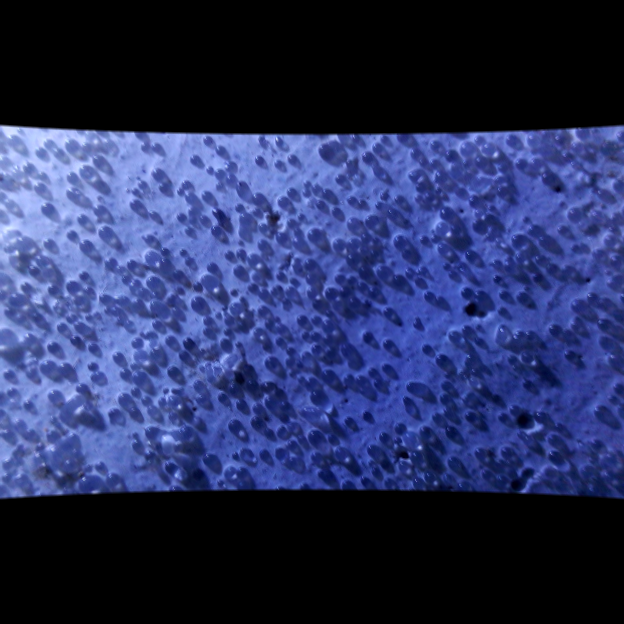GrassBeadSeg: (0, 182, 528, 494), (90, 170, 618, 464), (49, 161, 509, 489), (100, 131, 540, 469), (42, 137, 505, 457), (73, 155, 494, 479), (13, 178, 623, 395), (59, 161, 464, 471), (68, 142, 508, 422), (33, 132, 408, 419), (102, 133, 515, 391), (27, 205, 478, 421), (64, 211, 542, 401), (98, 125, 590, 299), (121, 241, 606, 415), (317, 149, 598, 444), (73, 261, 464, 466), (67, 218, 433, 436), (165, 202, 623, 376), (143, 170, 555, 362), (181, 140, 496, 385), (88, 156, 427, 381), (132, 262, 562, 430), (105, 248, 402, 486), (0, 187, 245, 468), (167, 157, 439, 405), (148, 181, 530, 356), (46, 248, 477, 401), (46, 247, 414, 426), (305, 157, 527, 439), (204, 194, 574, 360), (42, 179, 248, 477), (104, 142, 493, 298), (0, 129, 623, 224), (163, 174, 460, 364), (320, 187, 509, 485), (183, 256, 435, 478), (64, 170, 388, 340), (15, 207, 261, 425), (38, 359, 485, 477), (74, 233, 405, 392), (233, 202, 457, 435), (77, 137, 442, 277), (138, 168, 374, 379), (222, 140, 476, 335), (317, 141, 463, 462), (2, 139, 212, 361), (72, 186, 466, 303), (62, 137, 308, 323), (170, 180, 363, 411), (273, 140, 485, 339), (96, 284, 297, 486), (78, 148, 265, 360), (39, 201, 276, 368), (147, 149, 475, 269), (183, 225, 451, 371), (83, 190, 456, 293), (1, 347, 325, 465), (90, 153, 464, 255), (30, 170, 206, 385), (78, 238, 473, 332), (34, 185, 509, 263), (227, 170, 446, 336), (224, 172, 350, 459), (238, 272, 426, 460), (188, 152, 392, 317), (342, 184, 509, 385), (228, 287, 452, 436), (86, 288, 487, 367), (75, 150, 408, 245), (255, 174, 506, 297), (186, 163, 499, 261), (74, 186, 194, 434), (302, 132, 519, 269), (4, 294, 293, 394), (231, 252, 393, 428), (202, 207, 398, 352), (202, 135, 346, 331), (192, 228, 379, 376), (227, 301, 439, 428), (74, 302, 323, 410), (345, 215, 580, 329), (149, 264, 428, 359), (137, 178, 258, 390), (20, 161, 453, 219), (234, 324, 521, 408), (119, 366, 420, 446), (45, 141, 242, 257), (90, 154, 362, 230), (370, 148, 456, 386), (145, 274, 336, 380), (27, 264, 119, 483), (11, 379, 425, 427), (370, 140, 469, 338), (39, 207, 527, 247), (321, 320, 521, 415), (140, 141, 452, 201), (188, 213, 378, 309), (357, 256, 515, 369), (166, 189, 239, 430), (80, 272, 294, 354), (90, 242, 205, 390), (201, 275, 455, 336), (274, 135, 481, 205), (126, 272, 317, 347), (225, 159, 331, 294), (301, 358, 463, 442), (98, 212, 248, 302), (92, 429, 415, 470), (319, 215, 394, 381), (62, 141, 139, 298), (219, 314, 384, 387), (239, 146, 421, 211), (331, 140, 433, 250), (32, 180, 139, 282), (351, 132, 460, 230), (114, 234, 193, 346), (57, 352, 478, 373), (198, 285, 473, 316), (226, 201, 263, 427), (254, 248, 412, 297), (199, 272, 393, 311), (151, 270, 277, 328), (101, 134, 485, 153), (437, 134, 563, 191), (260, 299, 341, 387), (398, 272, 451, 402), (52, 279, 152, 346), (330, 353, 446, 410), (45, 336, 143, 400), (0, 396, 81, 473), (136, 178, 194, 285), (252, 154, 279, 364), (418, 174, 499, 244), (0, 127, 114, 176), (476, 343, 547, 420), (128, 364, 237, 414), (129, 316, 232, 367), (0, 235, 77, 303), (139, 214, 206, 289), (293, 409, 369, 475), (219, 176, 383, 206), (432, 158, 494, 236), (280, 187, 366, 242), (291, 226, 339, 324), (2, 426, 88, 480), (12, 371, 80, 439), (422, 294, 446, 482), (257, 157, 307, 247), (159, 185, 222, 256), (177, 433, 323, 463), (215, 424, 283, 484), (199, 221, 297, 261), (543, 219, 613, 273), (364, 340, 405, 432), (345, 157, 417, 208), (279, 295, 316, 389), (33, 145, 138, 178), (428, 157, 441, 421), (306, 228, 371, 278), (145, 404, 201, 462), (577, 382, 623, 451), (76, 366, 101, 489), (417, 458, 510, 491), (555, 186, 619, 233), (94, 187, 199, 215), (378, 133, 420, 201), (546, 319, 617, 359), (65, 431, 139, 469), (326, 415, 366, 484), (158, 366, 226, 406), (491, 235, 548, 280), (569, 263, 623, 310), (150, 157, 265, 179), (570, 139, 615, 195), (2, 305, 55, 351), (89, 305, 154, 342), (442, 367, 517, 398), (378, 430, 420, 485), (561, 233, 623, 270), (496, 280, 535, 338), (539, 129, 583, 180), (0, 154, 93, 178), (0, 169, 47, 215), (251, 271, 337, 296), (115, 280, 201, 303), (131, 429, 178, 469), (286, 179, 323, 224), (441, 445, 483, 484), (315, 293, 347, 343), (523, 420, 560, 460), (4, 133, 115, 146), (579, 441, 608, 490), (167, 204, 197, 251), (164, 451, 214, 478), (274, 330, 317, 361), (1, 197, 27, 247), (216, 224, 268, 249), (347, 293, 439, 307), (485, 429, 529, 457), (311, 198, 339, 241), (22, 331, 57, 363), (311, 272, 343, 307), (205, 462, 248, 488), (473, 322, 524, 343), (562, 322, 608, 345), (559, 140, 586, 178), (221, 294, 254, 325), (585, 296, 608, 340), (366, 442, 390, 484), (531, 244, 555, 281), (276, 434, 304, 465), (443, 369, 465, 408), (131, 414, 156, 448), (29, 311, 75, 329), (367, 161, 377, 240), (69, 320, 97, 348), (1, 357, 37, 378), (556, 206, 583, 233), (131, 287, 175, 303), (300, 347, 354, 360), (357, 265, 373, 308), (60, 130, 87, 154), (211, 170, 225, 216), (275, 259, 296, 288), (305, 285, 349, 298), (124, 175, 141, 208), (84, 311, 97, 351), (132, 290, 158, 309), (125, 402, 276, 405), (128, 374, 143, 401), (273, 230, 299, 245), (146, 395, 166, 414), (366, 248, 376, 286), (433, 220, 458, 233), (462, 376, 474, 400), (422, 231, 447, 242), (374, 263, 392, 278), (39, 145, 61, 157), (346, 244, 359, 264), (212, 206, 221, 234), (352, 234, 369, 248), (460, 367, 475, 382), (326, 346, 350, 355), (263, 446, 281, 457), (374, 195, 386, 209), (115, 391, 127, 404), (371, 236, 377, 254), (301, 350, 319, 356), (262, 394, 274, 402), (209, 224, 216, 236), (348, 236, 360, 243), (340, 344, 348, 354), (65, 186, 72, 197), (213, 168, 221, 177), (310, 343, 320, 350), (346, 252, 358, 257), (343, 342, 353, 347), (378, 194, 386, 200), (356, 284, 364, 290), (347, 239, 351, 247), (360, 237, 366, 242), (378, 190, 387, 193), (356, 280, 365, 283), (132, 369, 137, 374), (360, 232, 366, 236), (263, 403, 270, 406), (274, 396, 278, 400), (270, 404, 274, 407), (369, 163, 371, 168)
